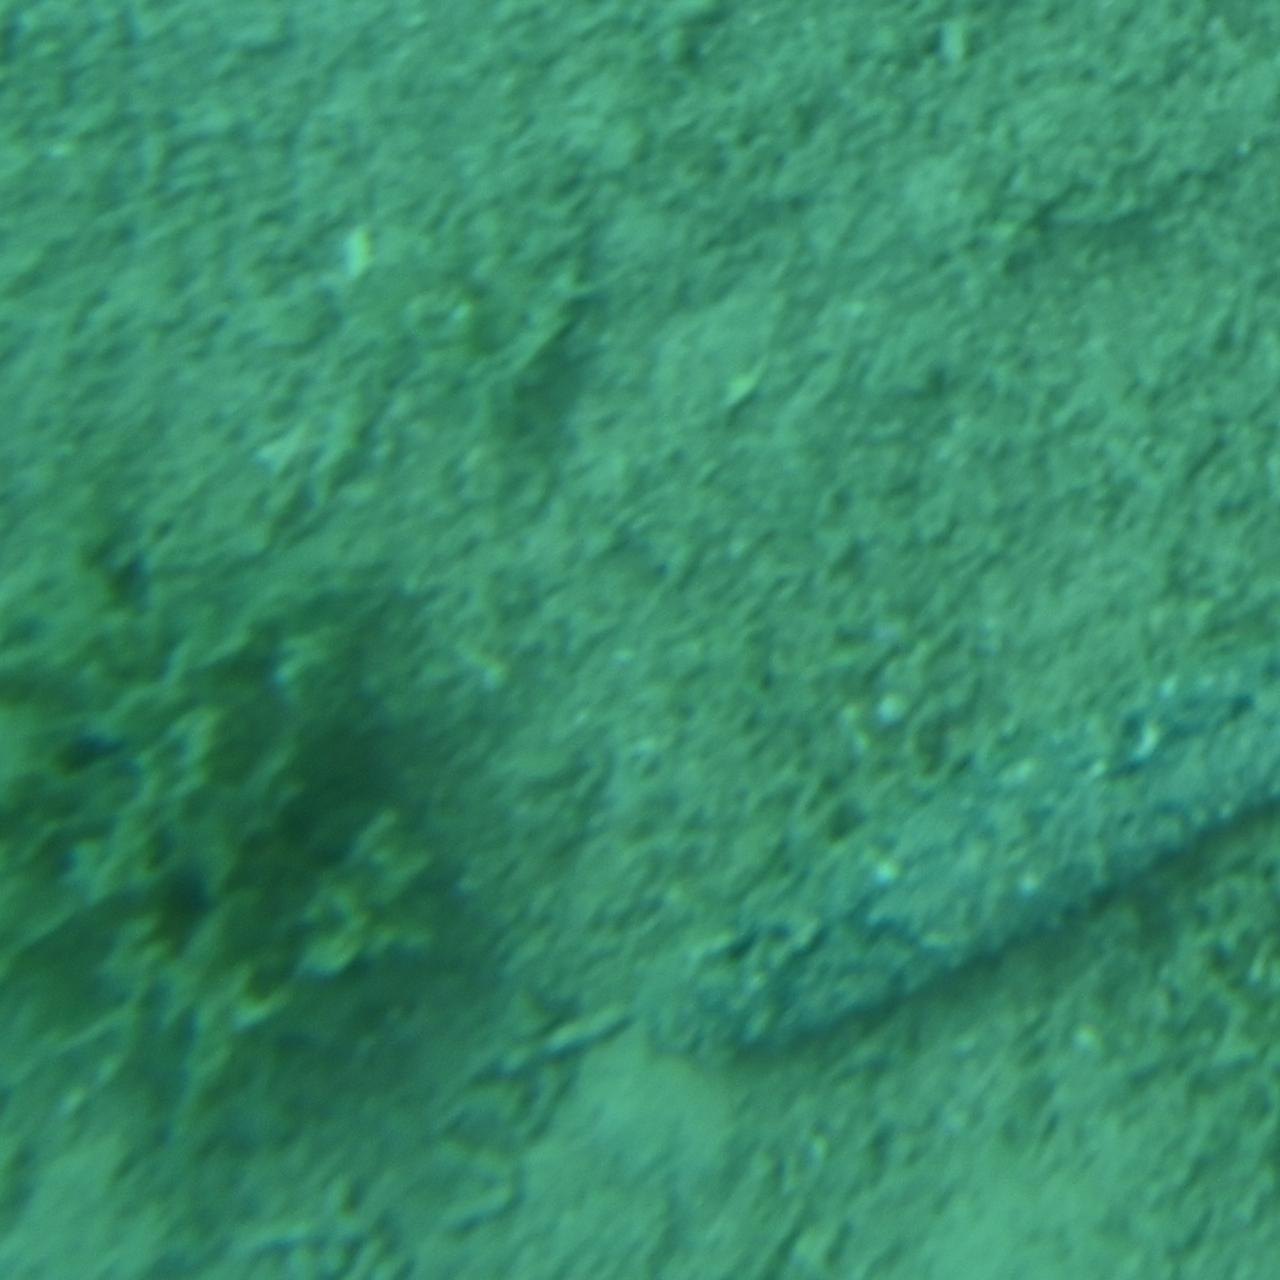Holothuria tubulosa: (626, 628, 1280, 1094)
Phaeophyceae -cfr Cystoseira-: (0, 531, 489, 1148)
